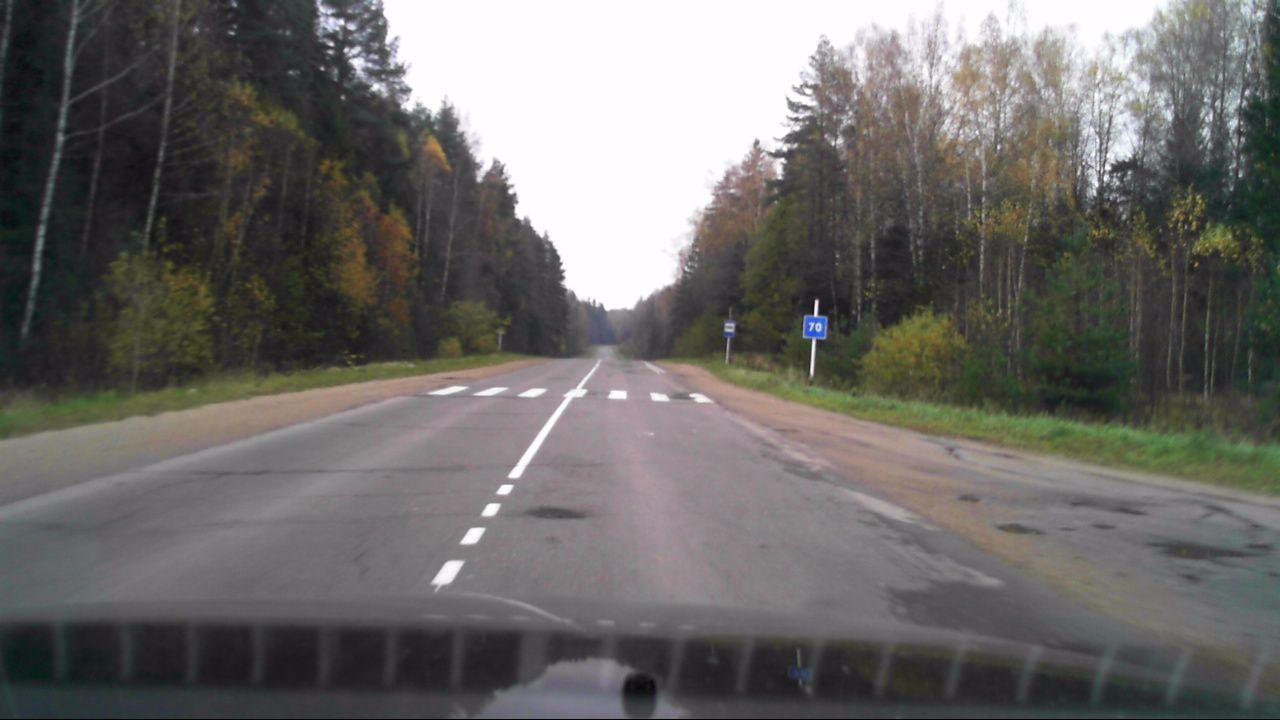5_16: (723, 318, 736, 337)
6_2: (802, 314, 827, 339)
